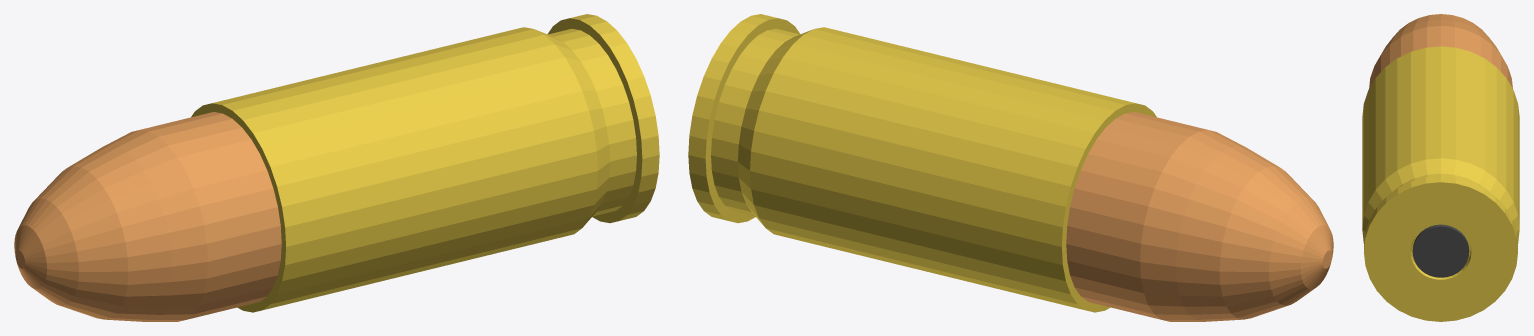
The model's file is bullet.fbx.
3 renders of one model, left to right at view 1: azimuth 30°, elevation 25°; view 2: azimuth 150°, elevation 25°; view 3: azimuth 270°, elevation 25°, orthographic. The views are drawn at different scales.
Parts seen in each view (by area): view 1: Projectile; view 2: Projectile; view 3: Projectile.
Part boxes in pixels (left/top/right/bottom): Projectile: left=14, top=14, right=659, bottom=321; Projectile: left=688, top=14, right=1333, bottom=321; Projectile: left=1362, top=14, right=1519, bottom=321.
Bounding box in the file's own units: 418 × 132 × 132.
